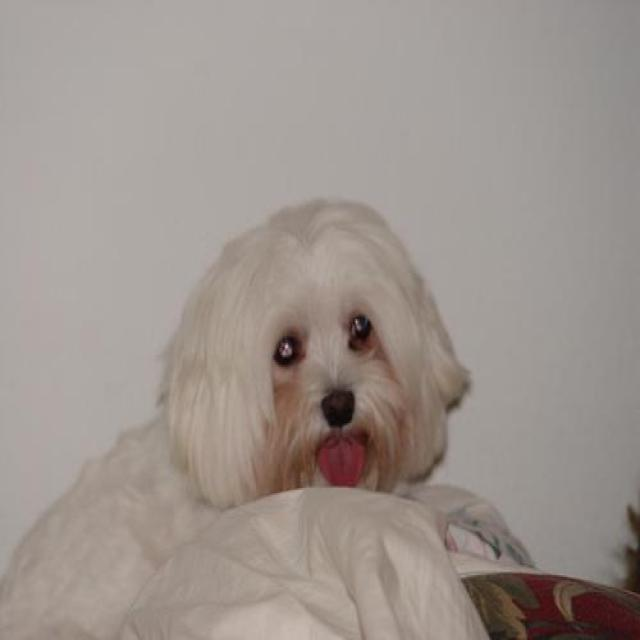happy: (152, 167, 480, 541)
